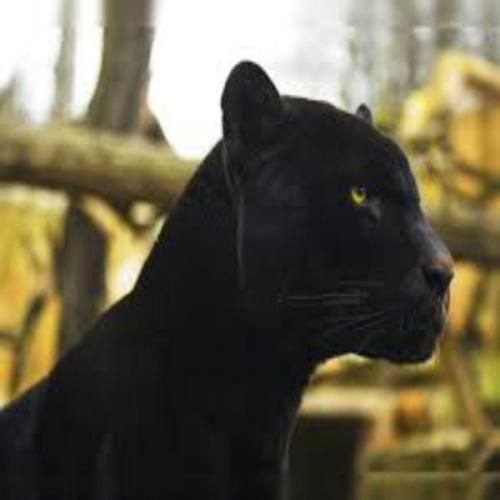panther-endangered: (0, 58, 457, 498)
